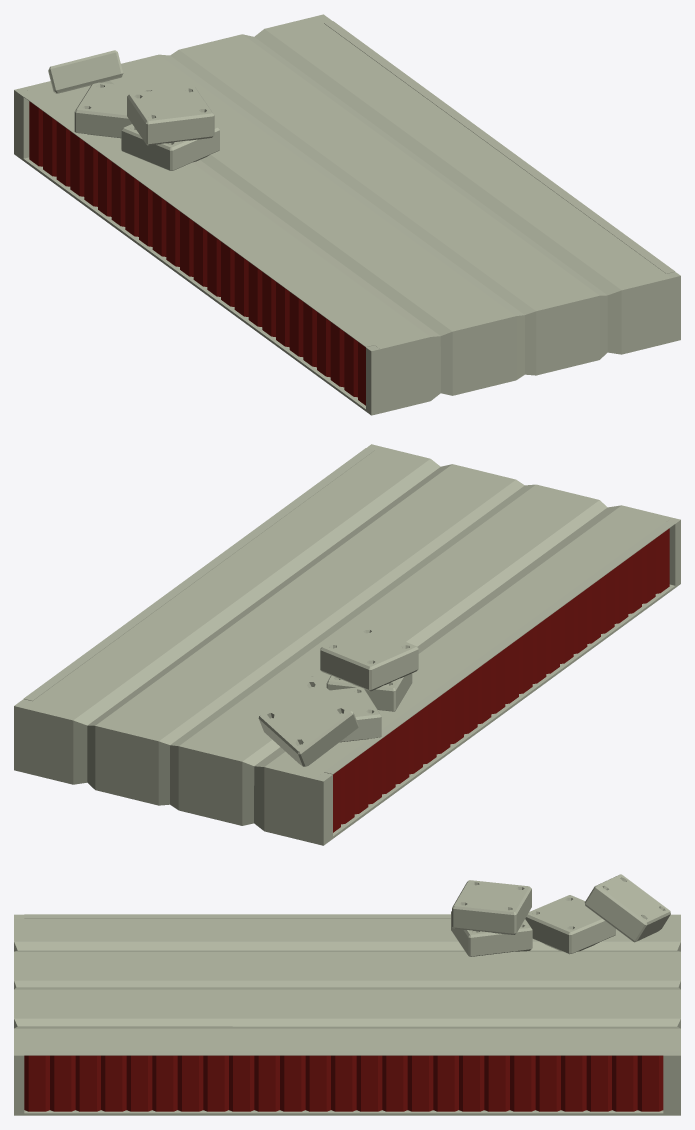
Rendered from Bridge Big.fbx.
The picture shows the model from 3 angles, top to bottom: view 1: azimuth 30°, elevation 25°; view 2: azimuth 150°, elevation 25°; view 3: azimuth 270°, elevation 25°; orthographic projection. The views are drawn at different scales.
Visible parts, largest first — view 1: BridgeBig; view 2: BridgeBig; view 3: BridgeBig.
Boxes of the visible parts, x1=… form: BridgeBig: x1=14, y1=14, x2=680, y2=415; BridgeBig: x1=14, y1=444, x2=680, y2=845; BridgeBig: x1=14, y1=874, x2=680, y2=1115.
Size of the model in its own units: 500 by 190 by 1000.
